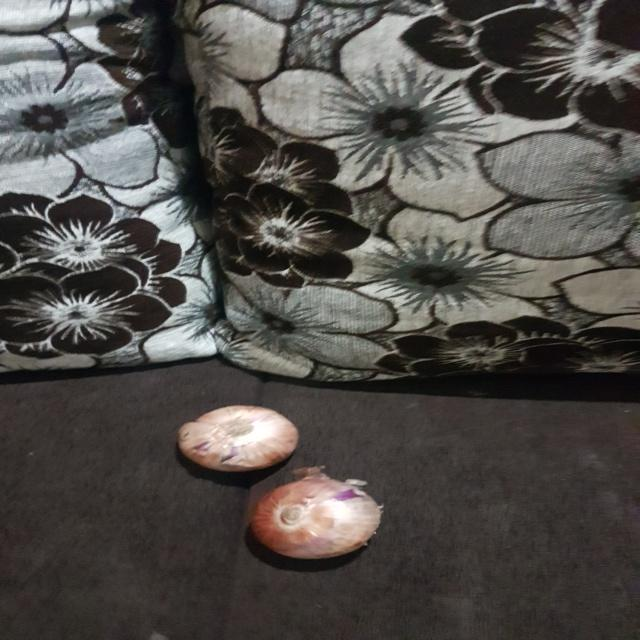onion: (247, 462, 387, 564), (173, 402, 303, 471)
